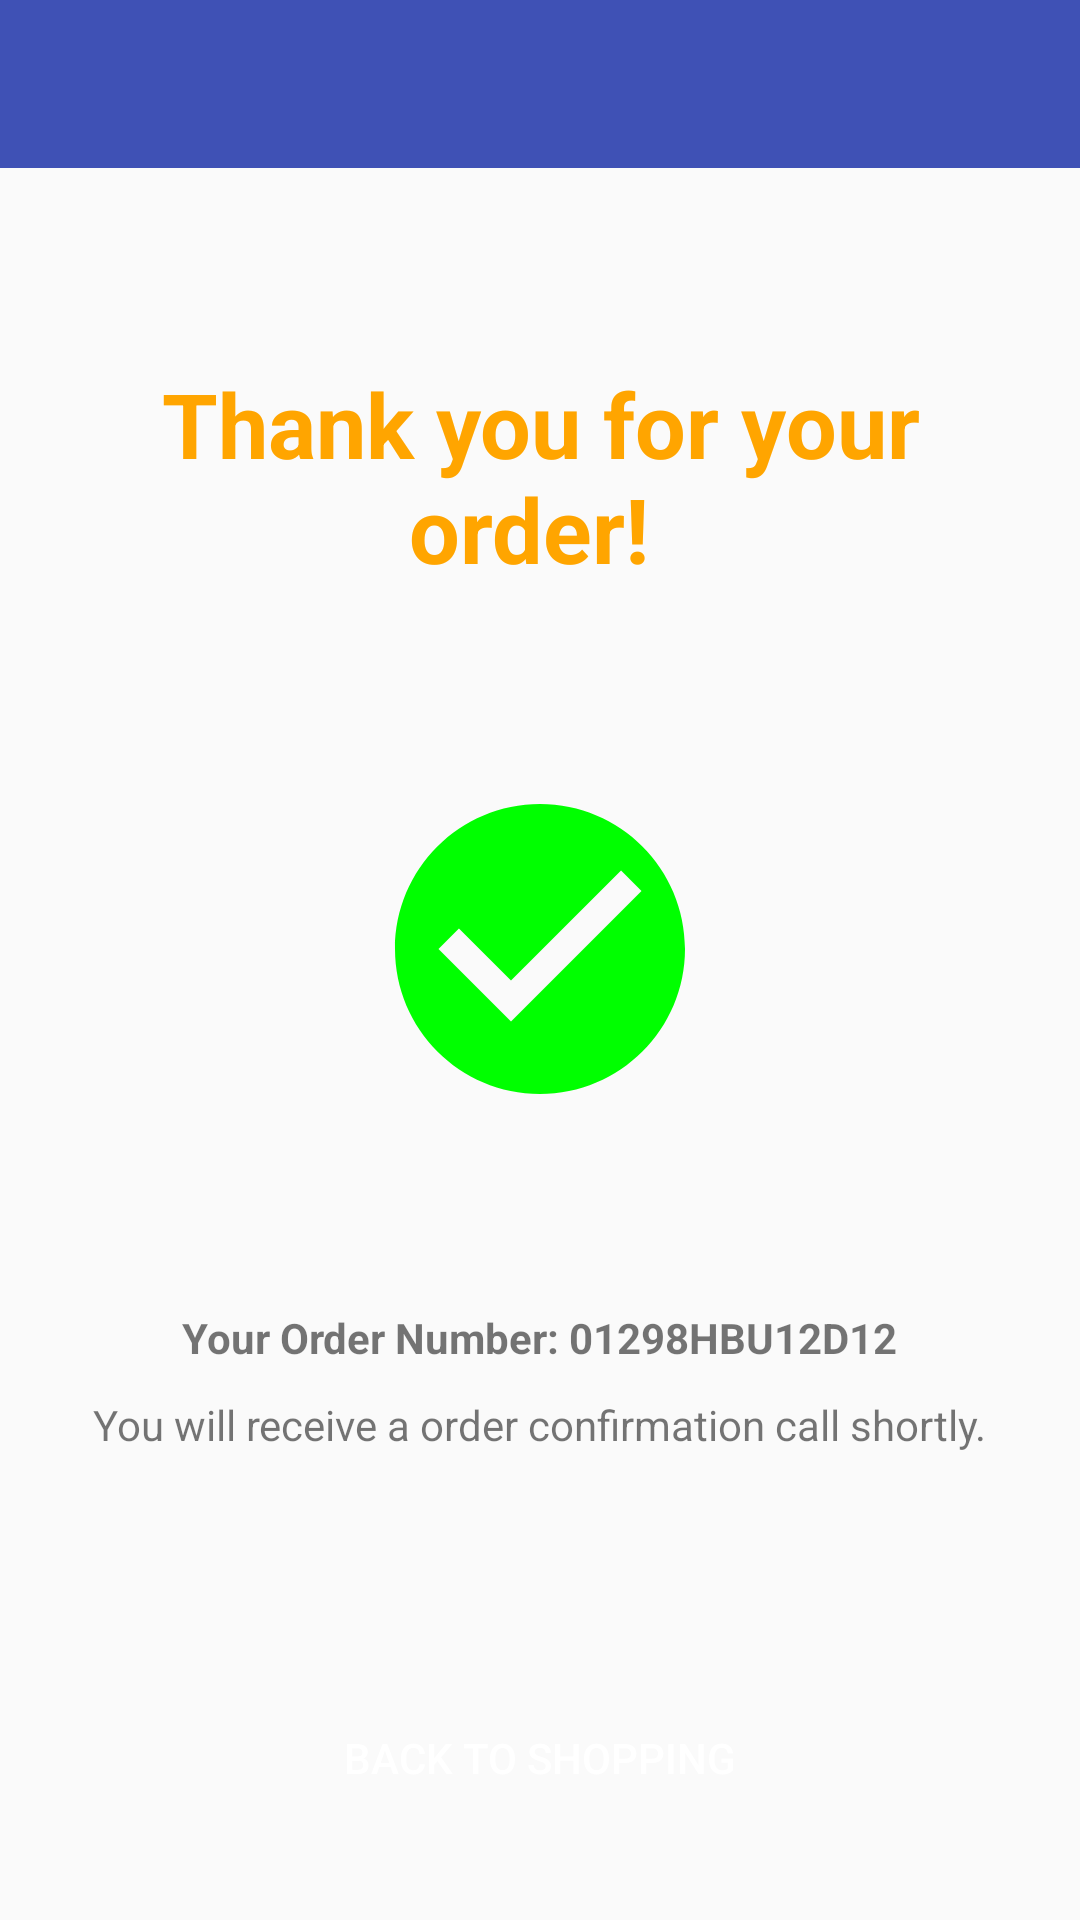

Icon bounding boxes for this 1080 x 1920 phone screenshot, format (x1, y1, x2, y2):
thankyou check: (395, 804, 685, 1094)
